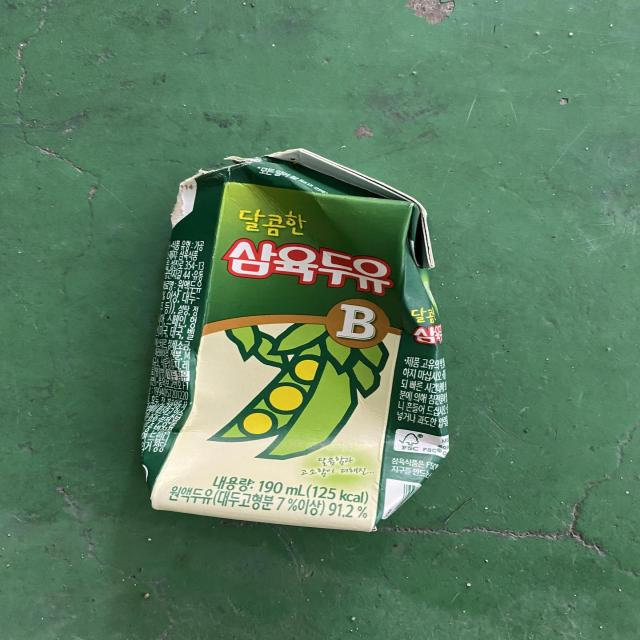paperpack: (140, 149, 449, 532)
